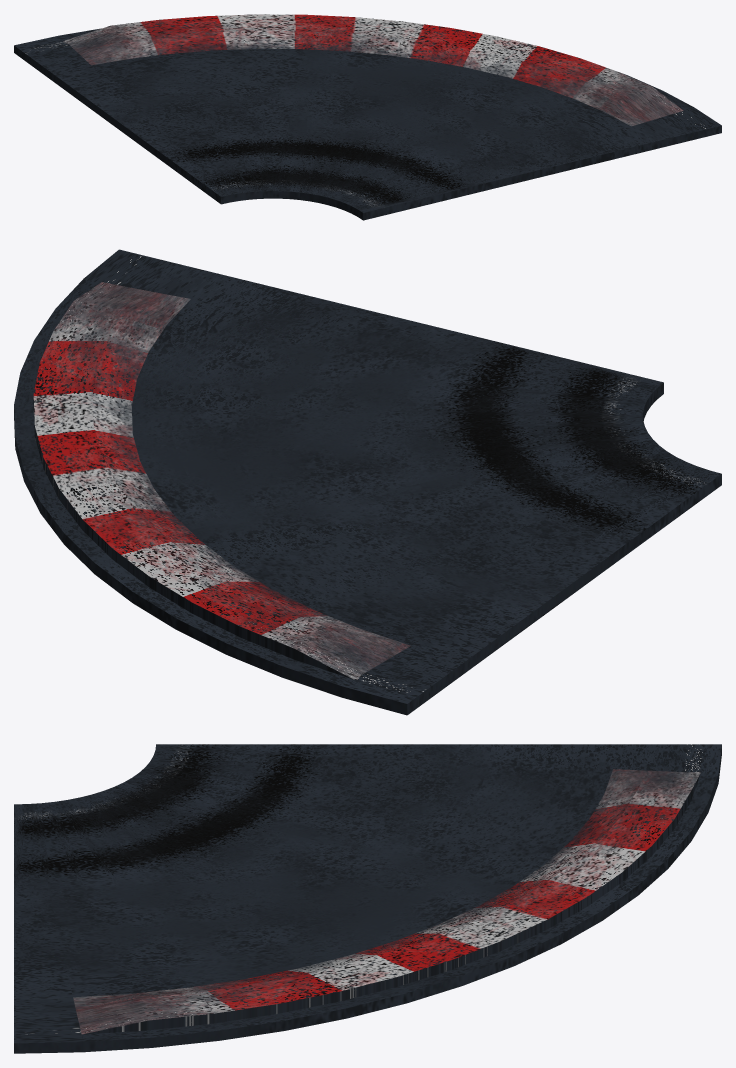
The model's file is short_left_turn.fbx.
The picture shows the model from 3 angles, top to bottom: view 1: azimuth 30°, elevation 25°; view 2: azimuth 150°, elevation 25°; view 3: azimuth 270°, elevation 25°; orthographic projection. The views are drawn at different scales.
Visible parts, largest first — view 1: TurnLeft; view 2: TurnLeft; view 3: TurnLeft.
Part boxes in pixels (x1,y1,x2,y2): TurnLeft: (14, 14, 721, 220); TurnLeft: (14, 249, 721, 715); TurnLeft: (14, 744, 721, 1053).
Bounding box in the file's own units: 1000 × 31.32 × 1000.
